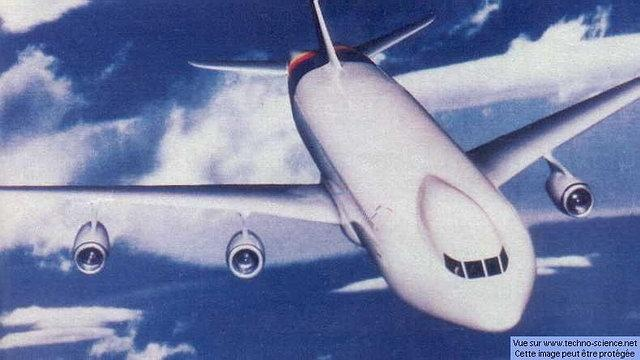airplane: (8, 5, 640, 333)
